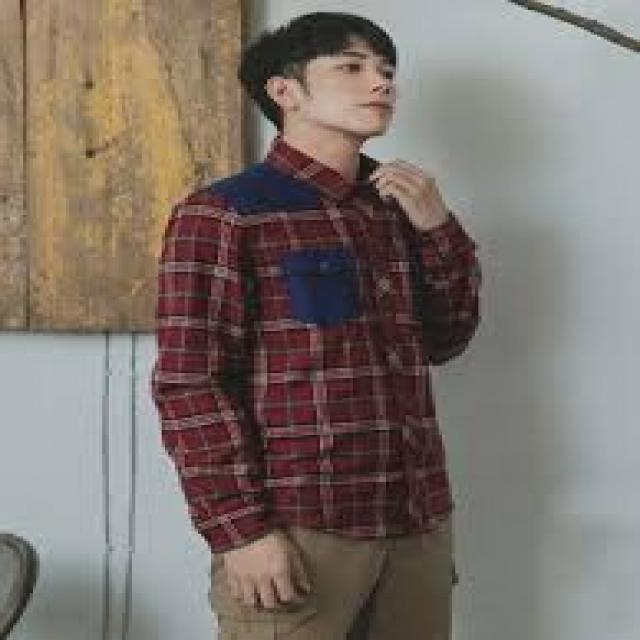plaid: (124, 167, 524, 556)
